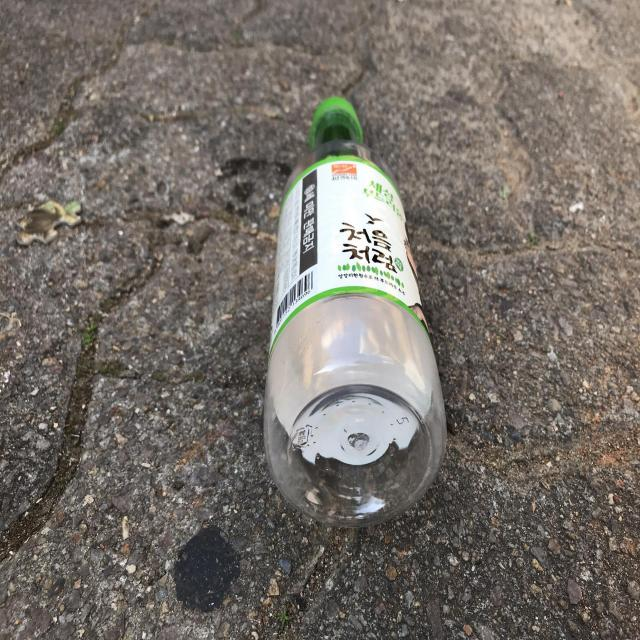plastic: (264, 96, 447, 527)
